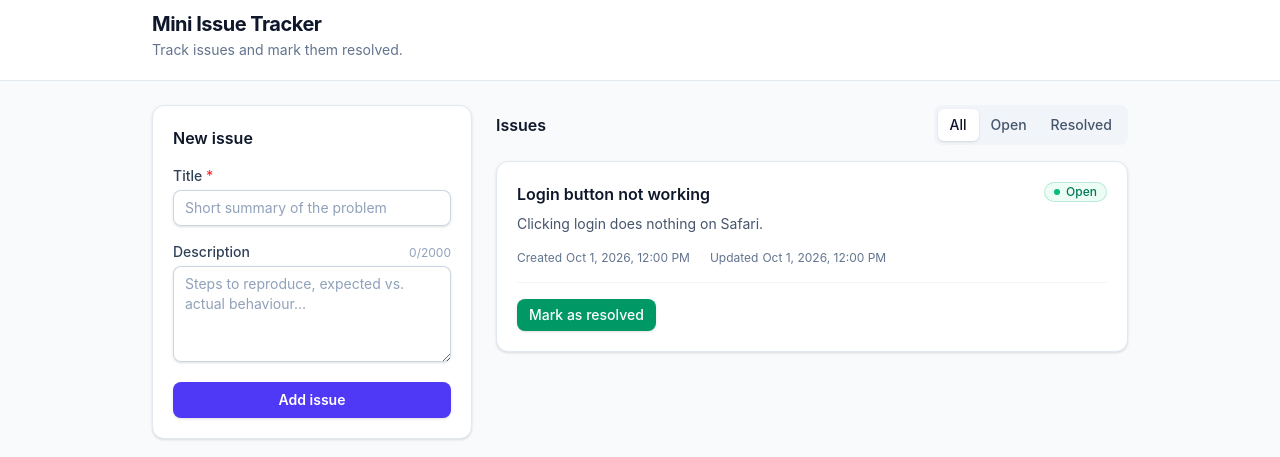
Test case: App › keeps an issue resolved from the Open view visible after switching to All mid-request
Expected: the element "Login button not working" is shown, left=496, top=161, right=1128, bottom=352
Click the button "Open": {"x": 1009, "y": 125} left=979, top=109, right=1039, bottom=141
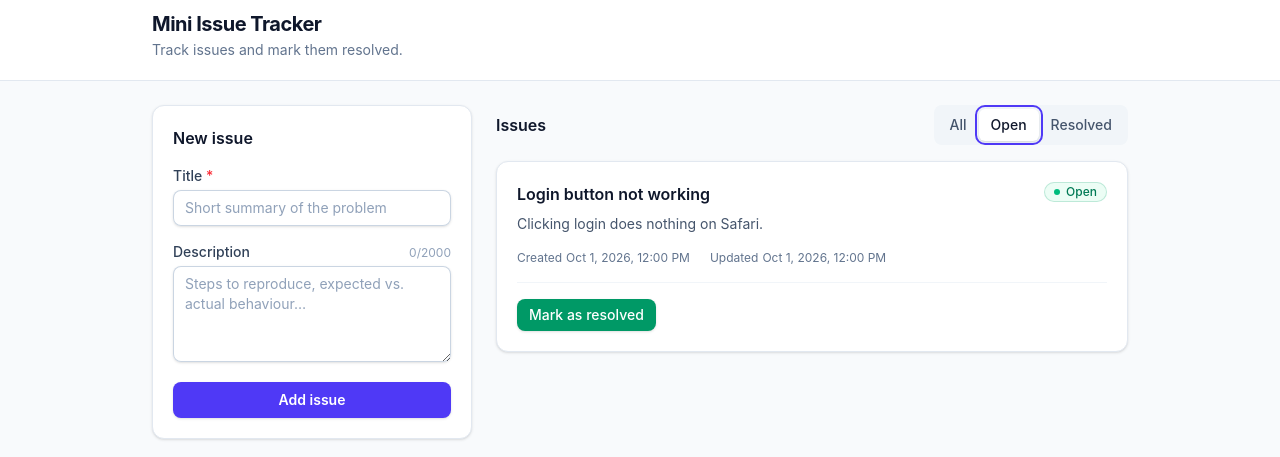
Click the button "Mark as resolved": {"x": 586, "y": 315} left=517, top=299, right=656, bottom=331
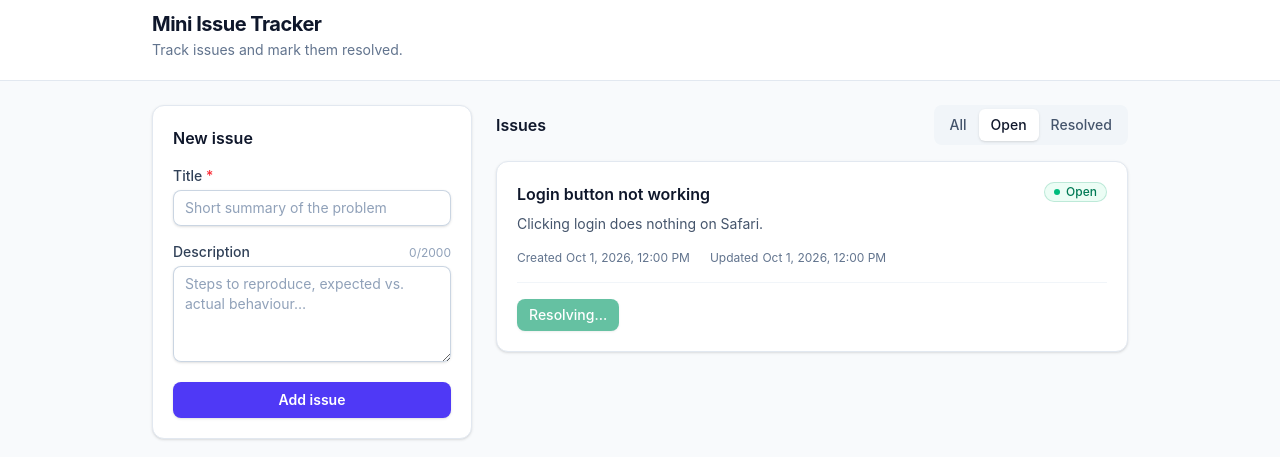
Click the button "All": {"x": 958, "y": 125} left=938, top=109, right=979, bottom=141
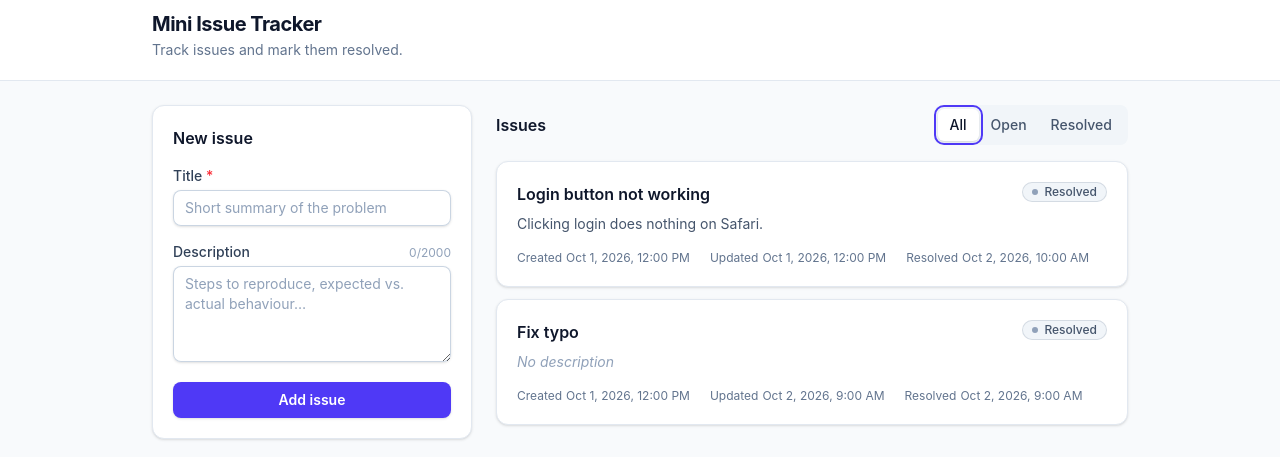
Now the element "Fix typo" is shown, box left=496, top=299, right=1128, bottom=425
Now the text "Resolved" is shown, box left=1022, top=182, right=1107, bottom=202
